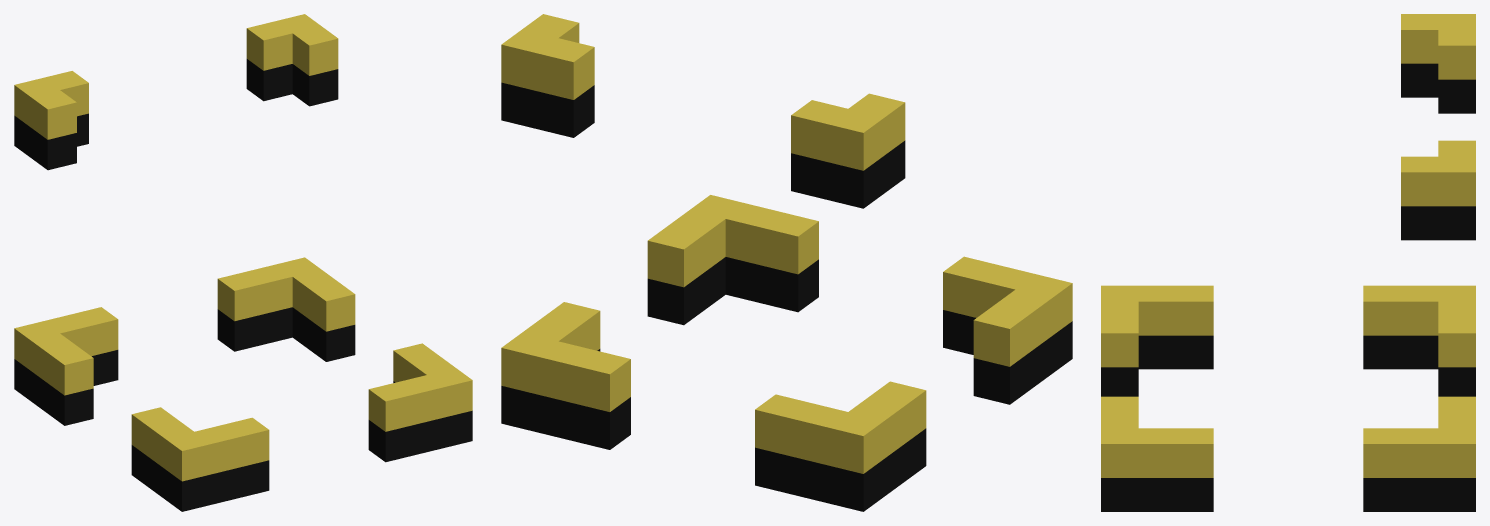
File: cursor.fbx
3 views of the same model, side by side, from view 1: azimuth 30°, elevation 25°; view 2: azimuth 150°, elevation 25°; view 3: azimuth 270°, elevation 25° (orthographic). The views are drawn at different scales.
Parts seen in each view (by area): view 1: cursor; view 2: cursor; view 3: cursor.
Part boxes in pixels (x1,y1,x2,y2): cursor: (14,14,472,511); cursor: (501,14,1072,511); cursor: (1101,14,1475,511).
Bounding box in the file's own units: 10 × 10 × 10.
